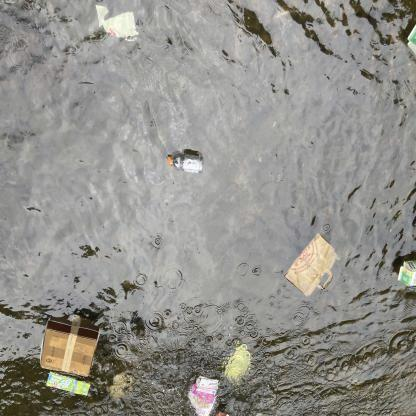Plastic: (94, 2, 141, 42), (222, 340, 254, 384), (164, 148, 208, 176)
Trash: (282, 230, 340, 298)
